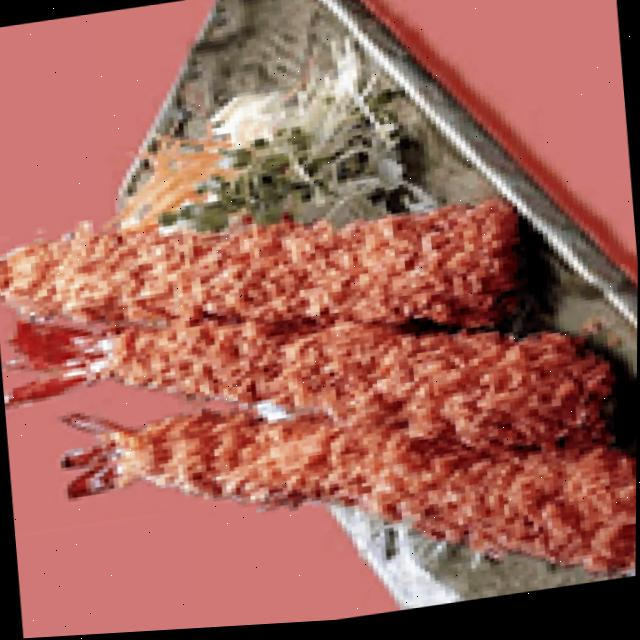炸货点心: (0, 147, 639, 640)
熟制海鲜: (0, 147, 639, 640)
